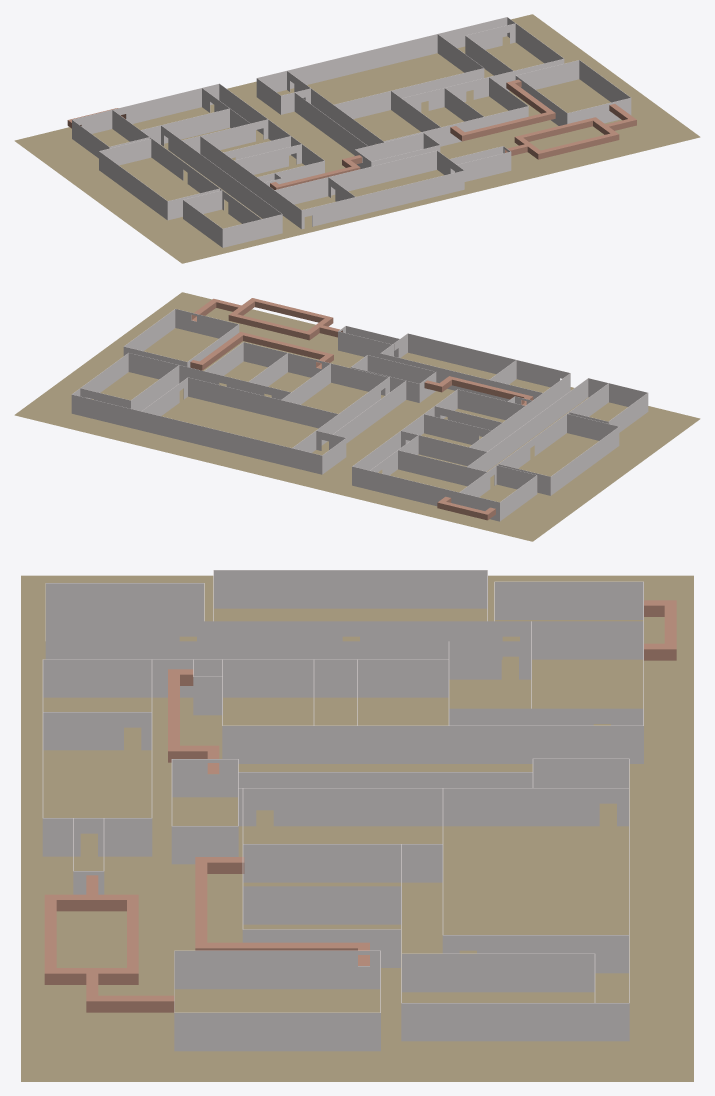
Rendered from box_map.fbx.
3 views of the same model, one above another, from view 1: azimuth 30°, elevation 25°; view 2: azimuth 150°, elevation 25°; view 3: azimuth 270°, elevation 25° (orthographic). The views are drawn at different scales.
Visible parts, largest first — view 1: floor, pipe, polySurface134, polySurface131, polySurface170, polySurface141, polySurface119, polySurface114, polySurface161, polySurface106, polySurface117, polySurface107 (+34 smaller); view 2: floor, pipe, polySurface134, polySurface161, polySurface131, polySurface141, polySurface150, polySurface119, polySurface114, polySurface106, polySurface117, polySurface107 (+33 smaller); view 3: floor, polySurface117, polySurface114, pipe, polySurface142, polySurface107, polySurface119, polySurface171, polySurface156, polySurface151, polySurface160, polySurface172 (+18 smaller).
Boxes of the visible parts, <box> form: floor: <box>14,14,700,263</box>; pipe: <box>67,79,636,189</box>; polySurface134: <box>257,17,507,92</box>; polySurface131: <box>312,170,464,226</box>; polySurface170: <box>275,150,436,204</box>; polySurface141: <box>72,84,219,133</box>; polySurface119: <box>168,131,282,218</box>; polySurface114: <box>200,136,301,228</box>; polySurface161: <box>334,68,483,118</box>; polySurface106: <box>141,108,229,144</box>; polySurface117: <box>219,83,324,172</box>; polySurface107: <box>99,151,167,219</box>; floor: <box>14,292,700,541</box>; pipe: <box>190,298,533,520</box>; polySurface134: <box>71,394,322,474</box>; polySurface161: <box>188,377,337,428</box>; polySurface131: <box>408,333,560,387</box>; polySurface141: <box>352,466,499,521</box>; polySurface150: <box>243,342,388,395</box>; polySurface119: <box>474,378,588,471</box>; polySurface114: <box>469,373,570,451</box>; polySurface106: <box>398,450,486,486</box>; polySurface117: <box>352,389,457,485</box>; polySurface107: <box>551,427,619,495</box>; floor: <box>21,575,693,1081</box>; polySurface117: <box>222,725,643,763</box>; polySurface114: <box>43,659,448,697</box>; pipe: <box>44,600,676,1012</box>; polySurface142: <box>273,788,599,826</box>; polySurface107: <box>214,570,487,608</box>; polySurface119: <box>46,641,501,679</box>; polySurface171: <box>401,1003,628,1041</box>; polySurface156: <box>174,1012,380,1051</box>; polySurface151: <box>174,950,380,989</box>; polySurface160: <box>243,844,442,882</box>; polySurface172: <box>402,953,594,992</box>.
Size of the model in its own units: 192 by 6.76 by 108.
